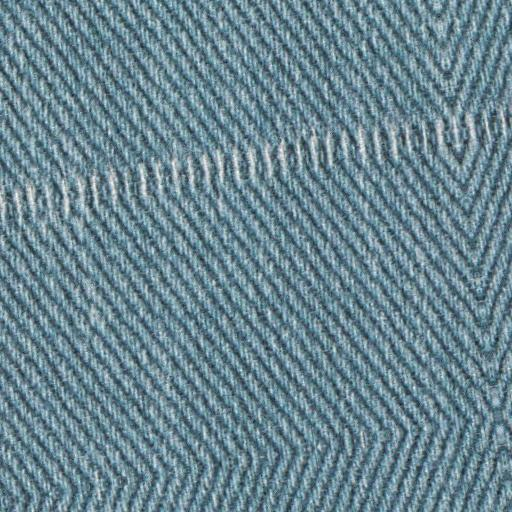slub: (2, 107, 512, 250)
